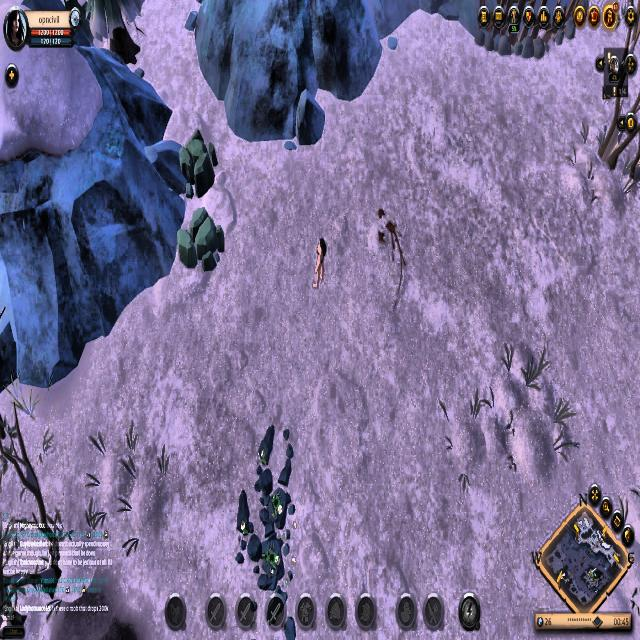sandstone: (173, 207, 228, 276), (178, 127, 219, 200)
